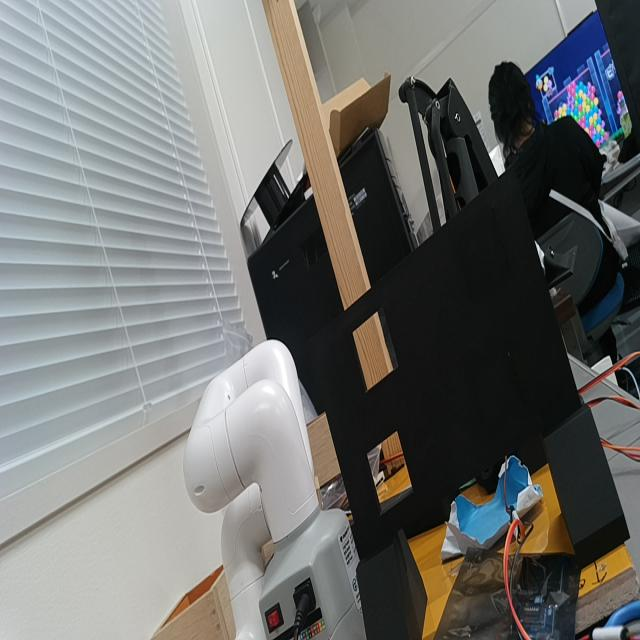Obstacle: (352, 305, 399, 392), (366, 432, 413, 513)
Wall: (307, 169, 580, 558)
